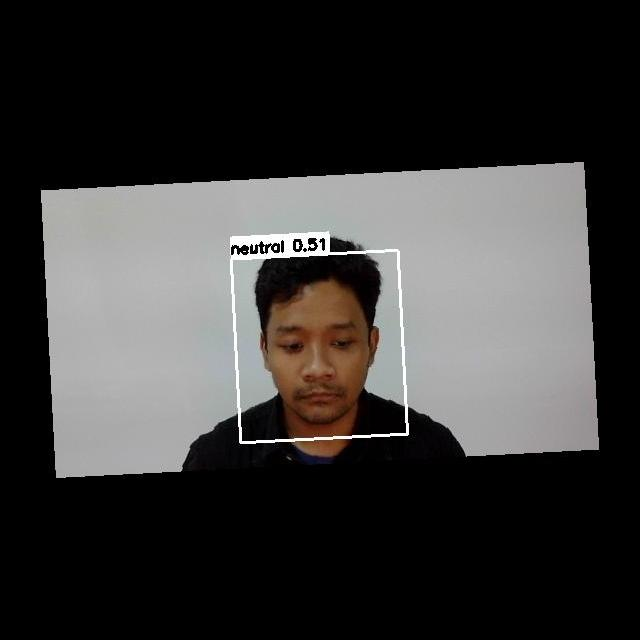Natural: (264, 316, 382, 412)
